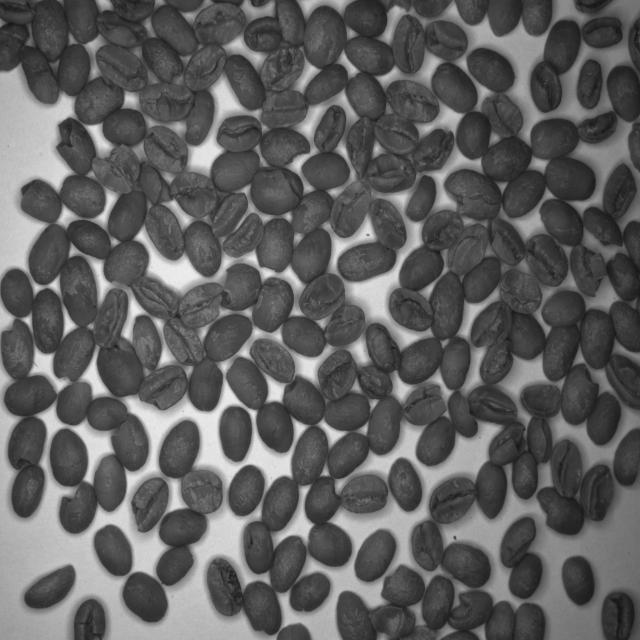bad: (442, 167, 502, 221), (94, 335, 144, 397), (93, 42, 147, 94), (560, 360, 600, 428), (90, 143, 141, 195), (386, 76, 440, 125), (51, 324, 95, 384), (250, 274, 294, 334), (205, 553, 245, 619), (536, 486, 586, 538), (428, 474, 478, 526), (522, 232, 568, 288), (250, 167, 304, 214), (142, 121, 188, 176), (137, 362, 187, 412), (329, 181, 372, 239), (20, 45, 60, 107), (56, 115, 96, 177), (92, 284, 130, 349), (74, 78, 125, 126), (110, 411, 150, 472), (144, 204, 186, 262), (549, 434, 585, 501), (170, 170, 218, 220), (248, 336, 296, 385), (338, 469, 388, 516), (466, 383, 518, 428), (282, 374, 325, 428), (568, 241, 608, 299), (8, 414, 48, 472), (290, 227, 332, 282), (102, 238, 150, 286), (398, 382, 448, 428), (194, 2, 246, 46), (298, 273, 346, 320), (244, 578, 282, 637), (58, 478, 98, 534), (188, 352, 224, 414), (95, 8, 148, 50), (140, 82, 193, 124), (372, 110, 420, 156), (130, 274, 178, 320), (388, 286, 434, 334), (132, 475, 170, 533), (481, 90, 525, 140), (444, 224, 488, 274), (259, 126, 311, 168), (0, 318, 35, 380), (578, 463, 616, 520), (289, 188, 335, 235), (604, 64, 640, 124), (368, 196, 408, 250), (603, 353, 640, 411), (486, 215, 526, 268), (392, 12, 425, 76), (260, 44, 304, 92), (499, 268, 543, 316), (498, 514, 536, 569), (602, 161, 638, 219), (164, 316, 204, 368), (183, 44, 226, 92), (19, 176, 62, 224), (258, 217, 294, 274), (366, 152, 416, 193), (180, 470, 224, 516), (261, 89, 309, 131), (446, 588, 494, 630), (304, 474, 342, 526), (424, 18, 466, 65), (57, 41, 91, 99), (346, 114, 375, 182), (142, 37, 183, 85), (529, 58, 564, 114), (219, 264, 263, 308), (222, 212, 264, 258), (178, 281, 224, 323), (323, 300, 365, 346), (209, 190, 249, 238), (132, 312, 164, 372), (519, 378, 563, 421), (413, 126, 454, 172), (366, 320, 402, 372), (184, 90, 216, 148), (471, 299, 508, 349), (582, 204, 624, 248), (606, 250, 640, 304), (241, 521, 275, 575), (486, 421, 526, 466), (411, 520, 445, 572), (422, 208, 464, 250), (137, 158, 173, 206), (216, 115, 261, 153), (602, 590, 636, 640), (72, 594, 108, 640), (478, 340, 514, 385), (313, 105, 345, 152), (448, 391, 480, 438), (575, 58, 603, 110), (526, 413, 554, 465), (0, 22, 29, 72), (582, 14, 624, 48), (576, 112, 618, 144), (245, 16, 282, 52), (356, 362, 392, 399), (1, 0, 36, 26)
good: (60, 253, 100, 328), (303, 4, 346, 68), (120, 570, 170, 624), (397, 332, 445, 388), (22, 562, 78, 610), (27, 222, 70, 284), (181, 216, 223, 278), (429, 270, 466, 340), (158, 418, 201, 478), (541, 318, 581, 382), (352, 526, 396, 584), (366, 390, 404, 456), (150, 4, 198, 56), (441, 540, 493, 588), (432, 60, 478, 114), (544, 158, 598, 204), (500, 168, 546, 222), (50, 426, 90, 488), (2, 374, 58, 418), (337, 242, 398, 282), (224, 54, 266, 112), (270, 532, 308, 596), (398, 242, 446, 292), (227, 353, 269, 410), (316, 344, 358, 400), (464, 46, 516, 91), (291, 424, 330, 484), (261, 472, 300, 532), (480, 138, 533, 182), (94, 520, 134, 578), (580, 307, 616, 371), (205, 313, 252, 362), (210, 148, 260, 194), (539, 197, 583, 249), (32, 0, 68, 63), (30, 287, 64, 353), (9, 464, 47, 523), (58, 172, 106, 218), (379, 561, 427, 607), (93, 452, 128, 514), (108, 188, 146, 245), (507, 308, 547, 362), (326, 430, 371, 478), (543, 18, 581, 74), (227, 462, 265, 518), (346, 34, 394, 78), (476, 456, 508, 522), (308, 520, 352, 568), (529, 116, 579, 158), (460, 253, 502, 303), (416, 416, 458, 466), (586, 390, 622, 448), (387, 456, 423, 514), (258, 396, 294, 454), (337, 588, 377, 640), (438, 333, 473, 391), (345, 72, 387, 120), (366, 598, 416, 638), (158, 508, 208, 548), (422, 571, 454, 633), (282, 314, 327, 358), (218, 406, 252, 464), (605, 297, 640, 353), (288, 569, 332, 613), (66, 218, 111, 260), (322, 391, 370, 430), (102, 106, 146, 148), (541, 288, 587, 328), (0, 264, 34, 318), (302, 152, 350, 190), (455, 110, 491, 160), (562, 555, 598, 605), (304, 64, 346, 106), (343, 0, 388, 39), (612, 425, 640, 487), (508, 550, 544, 598), (54, 382, 94, 425), (64, 0, 100, 46), (156, 545, 194, 588), (404, 174, 438, 222), (274, 0, 306, 48), (86, 394, 128, 430), (509, 450, 539, 500), (484, 596, 516, 640), (514, 600, 548, 640), (486, 0, 520, 38), (521, 1, 553, 36), (454, 0, 487, 27)
